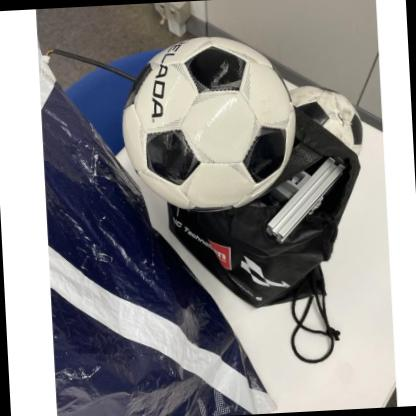ball: (119, 34, 298, 212)
